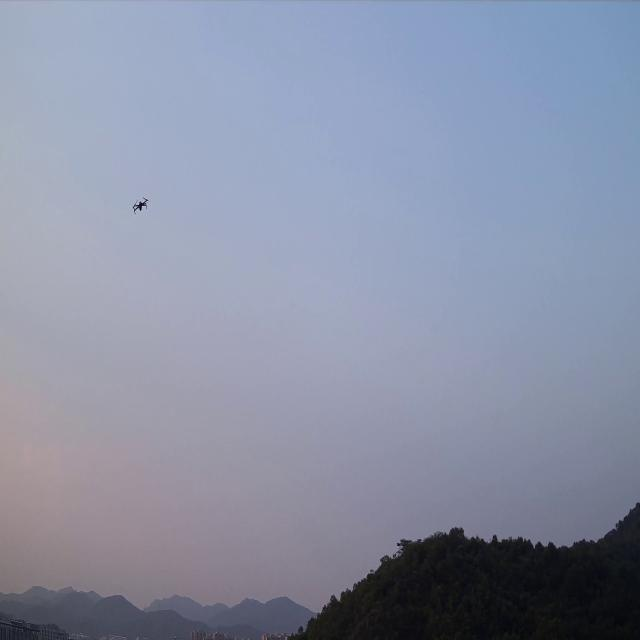UAV: (131, 196, 149, 215)
